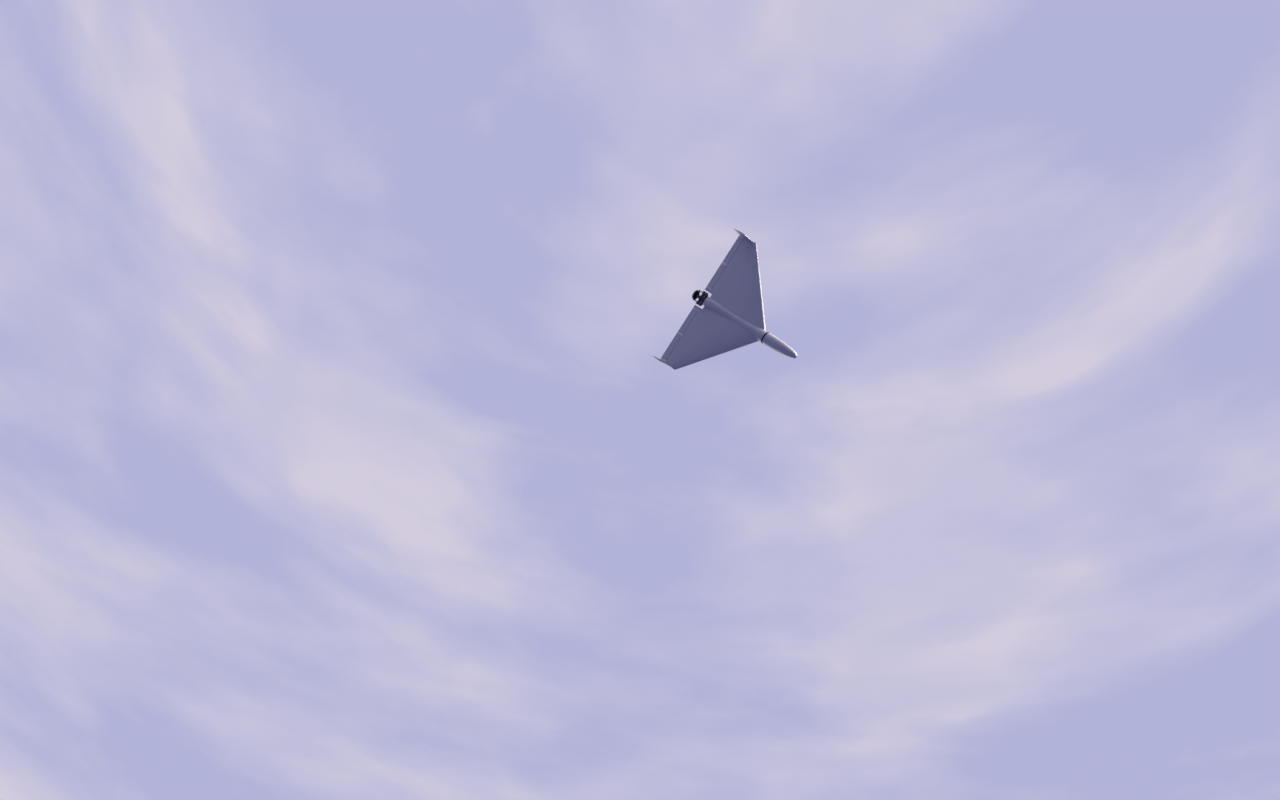shahed: (652, 228, 799, 372)
